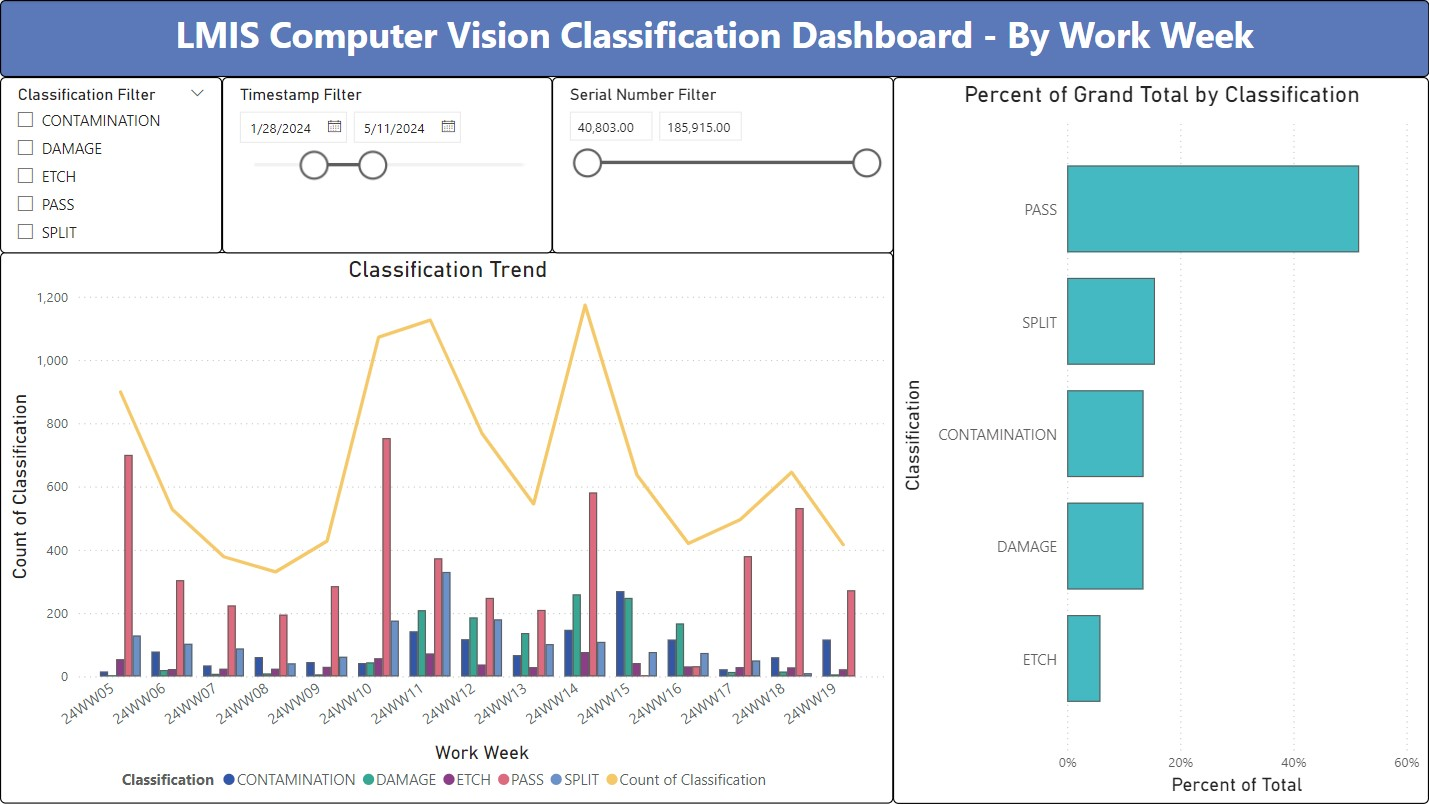

This screenshot's page, from the dashboard's own definition file:
{"tool":"powerbi","page":{"name":"By WW","canvas":[1280,720],"ordinal":0},"visuals":[{"type":"lineClusteredColumnComboChart","title":"Classification Trend","fields":{"Y":["CountNonNull(BI_results.Predicted_Class)"],"Series":["BI_results.Predicted_Class"],"Category":["BI_results.Work Week","BI_results.Timestamp.Variation.Date Hierarchy.Month"],"Y2":["CountNonNull(BI_results.Predicted_Class)"]},"box":[0,225.4,800.1,494.4],"z":0},{"type":"slicer","fields":{"Values":["BI_results.Predicted_Class"]},"box":[0,69.1,198.9,158.4],"z":1000},{"type":"slicer","fields":{"Values":["BI_results.Timestamp"]},"box":[198.9,69.1,295.6,158.4],"z":2000},{"type":"slicer","fields":{"Values":["BI_results.SN"]},"box":[494.5,69.1,305.7,158.4],"z":3000},{"type":"clusteredBarChart","title":"Percent of Grand Total by Classification","fields":{"Category":["BI_results.Predicted_Class"],"Y":["CountNonNull(BI_results.Predicted_Class)"]},"box":[800.1,69.2,479.9,650.6],"z":4000},{"type":"textbox","box":[0,0,1279.7,69],"z":5000}]}

Visuals, with their boxes in screenshot pixels (x1, y1, x2, y2), scaled from the page's 1280x720 canvas onto the 1429x804 screenshot:
"Classification Trend" lineClusteredColumnComboChart: bbox=(0, 252, 893, 803)
slicer - BI_results.Predicted_Class: bbox=(0, 77, 222, 254)
slicer - BI_results.Timestamp: bbox=(222, 77, 552, 254)
slicer - BI_results.SN: bbox=(552, 77, 893, 254)
"Percent of Grand Total by Classification" clusteredBarChart: bbox=(893, 77, 1428, 803)
textbox: bbox=(0, 0, 1428, 77)
